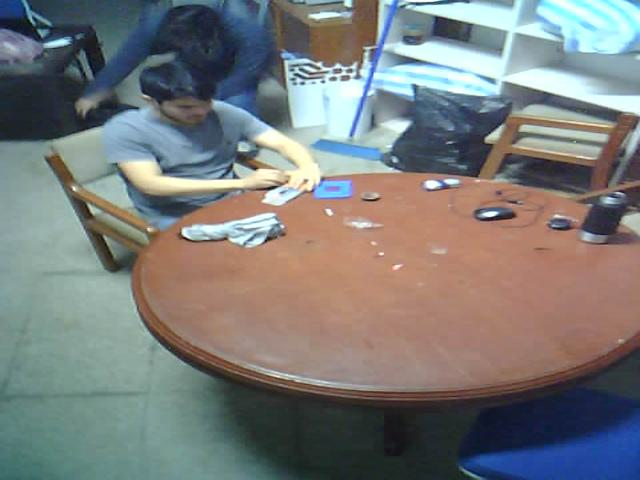person: (96, 61, 334, 253), (76, 1, 296, 106)
